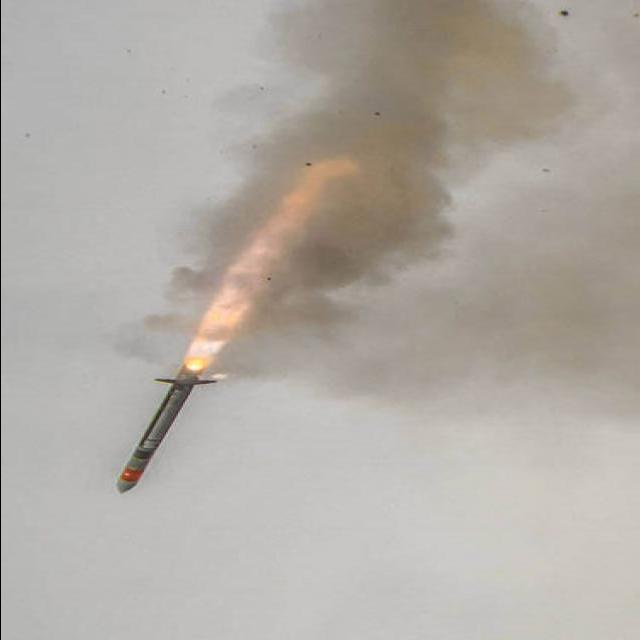missile: (106, 358, 223, 496)
